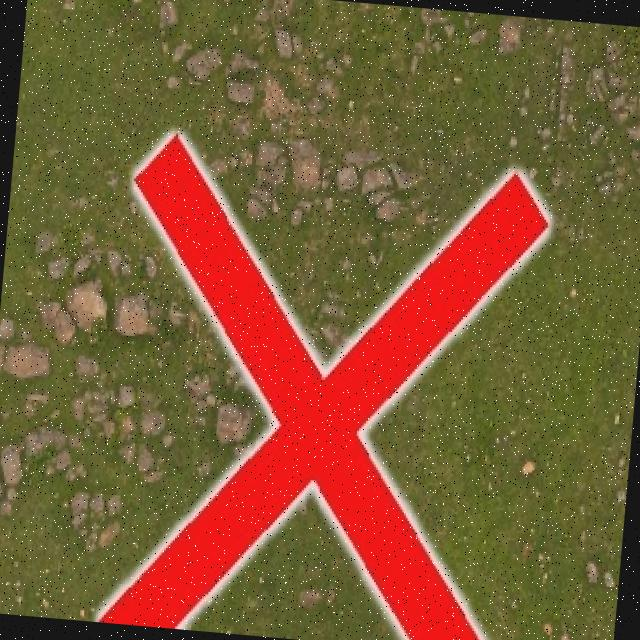x_marker: (96, 131, 551, 640)
